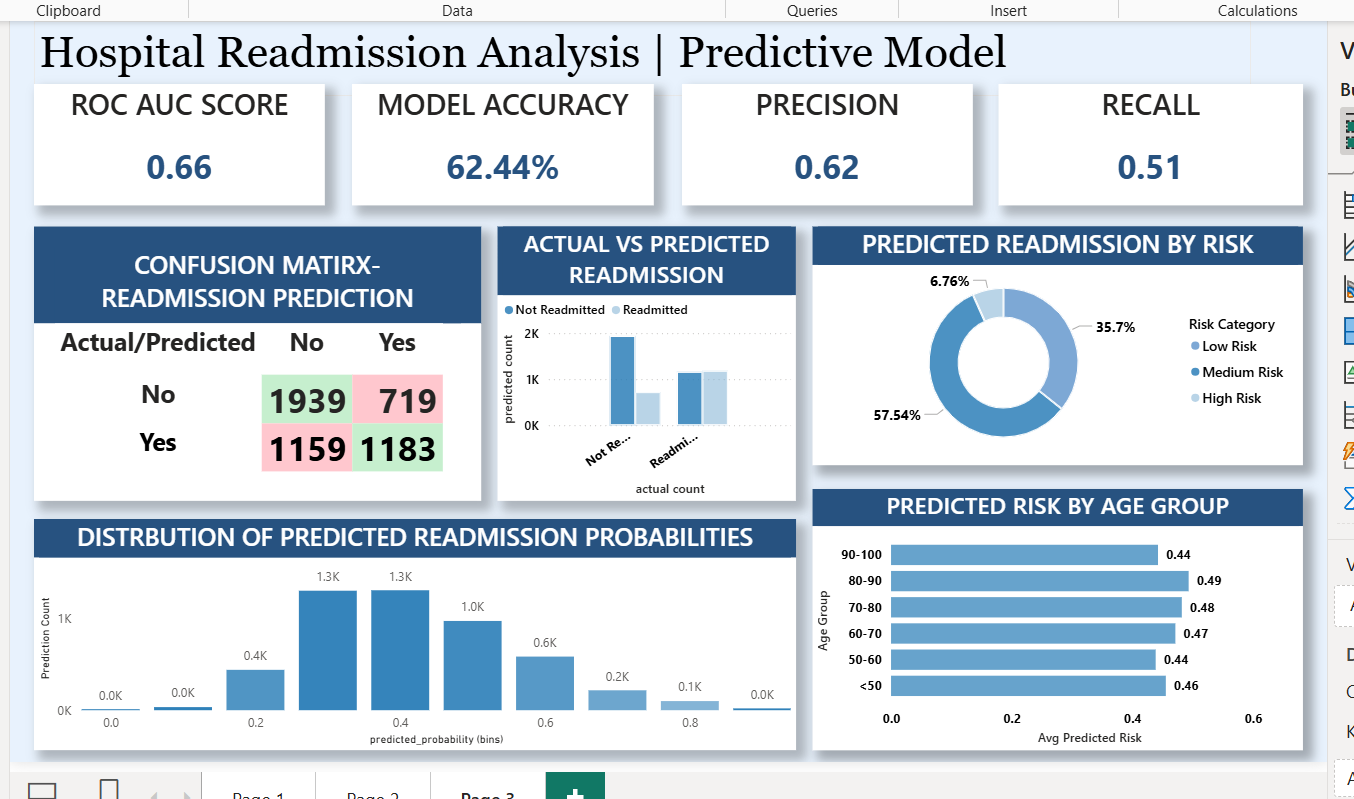

The page's visual inventory and layout, read from the dashboard file:
{"tool":"powerbi","page":{"name":"Page 3","canvas":[1280,720],"ordinal":2},"visuals":[{"type":"textbox","box":[23,0,1183,73],"z":0},{"type":"cardVisual","title":"MODEL ACCURACY","fields":{"Data":["powerbi_readmission_predictions.Model Accuracy"]},"box":[332.4,61.2,293,118.1],"z":1000},{"type":"cardVisual","title":"PRECISION","fields":{"Data":["powerbi_readmission_predictions.Precision"]},"box":[653.1,61.2,282.8,118.1],"z":2000},{"type":"cardVisual","title":"RECALL","fields":{"Data":["powerbi_readmission_predictions.Recall"]},"box":[960.7,61.2,295.9,118.1],"z":3000},{"type":"cardVisual","title":"ROC AUC SCORE","fields":{"Data":["powerbi_readmission_predictions.ROC AUC Score"]},"box":[23.3,61.2,282.8,118.1],"z":4000},{"type":"pivotTable","title":"CONFUSION MATIRX- READMISSION PREDICTION ","fields":{"Values":["powerbi_readmission_predictions.Prediction Count"],"Columns":["powerbi_readmission_predictions.Predicted Label"],"Rows":["powerbi_readmission_predictions.Actual Label"]},"box":[23.3,199.7,434.4,266.8],"z":5000},{"type":"clusteredColumnChart","title":"ACTUAL VS PREDICTED READMISSION","fields":{"Category":["powerbi_readmission_predictions.Actual Label"],"Y":["powerbi_readmission_predictions.Prediction Count"],"Series":["powerbi_readmission_predictions.Predicted"]},"box":[473.8,199.7,290.1,266.8],"z":6000},{"type":"clusteredColumnChart","title":"DISTRBUTION OF PREDICTED READMISSION PROBABILITIES ","fields":{"Category":["powerbi_readmission_predictions.predicted_probability (bins)"],"Y":["powerbi_readmission_predictions.Prediction Count"]},"box":[23.3,484,740.6,224.5],"z":20000},{"type":"donutChart","title":"PREDICTED READMISSION BY RISK ","fields":{"Category":["powerbi_readmission_predictions.Risk Category"],"Y":["powerbi_readmission_predictions.Prediction Count"]},"box":[780,199.7,476.7,231.8],"z":21000},{"type":"clusteredBarChart","title":"PREDICTED RISK BY AGE GROUP","fields":{"Category":["powerbi_readmission_predictions.Age Group"],"Y":["powerbi_readmission_predictions.Avg Predicted Risk"]},"box":[780,454.9,476.7,253.7],"z":21001}]}

Visuals, with their boxes on the page's 1280x720 design canvas (x1, y1, x2, y2). These are canvas units, not pixel positions in the 1354x799 screenshot, which may show the page scaled, cropped or inside an application window:
textbox: [23, 0, 1206, 73]
"MODEL ACCURACY" cardVisual: [332, 61, 625, 179]
"PRECISION" cardVisual: [653, 61, 936, 179]
"RECALL" cardVisual: [961, 61, 1257, 179]
"ROC AUC SCORE" cardVisual: [23, 61, 306, 179]
"CONFUSION MATIRX- READMISSION PREDICTION " pivotTable: [23, 200, 458, 466]
"ACTUAL VS PREDICTED READMISSION" clusteredColumnChart: [474, 200, 764, 466]
"DISTRBUTION OF PREDICTED READMISSION PROBABILITIES " clusteredColumnChart: [23, 484, 764, 708]
"PREDICTED READMISSION BY RISK " donutChart: [780, 200, 1257, 432]
"PREDICTED RISK BY AGE GROUP" clusteredBarChart: [780, 455, 1257, 709]
